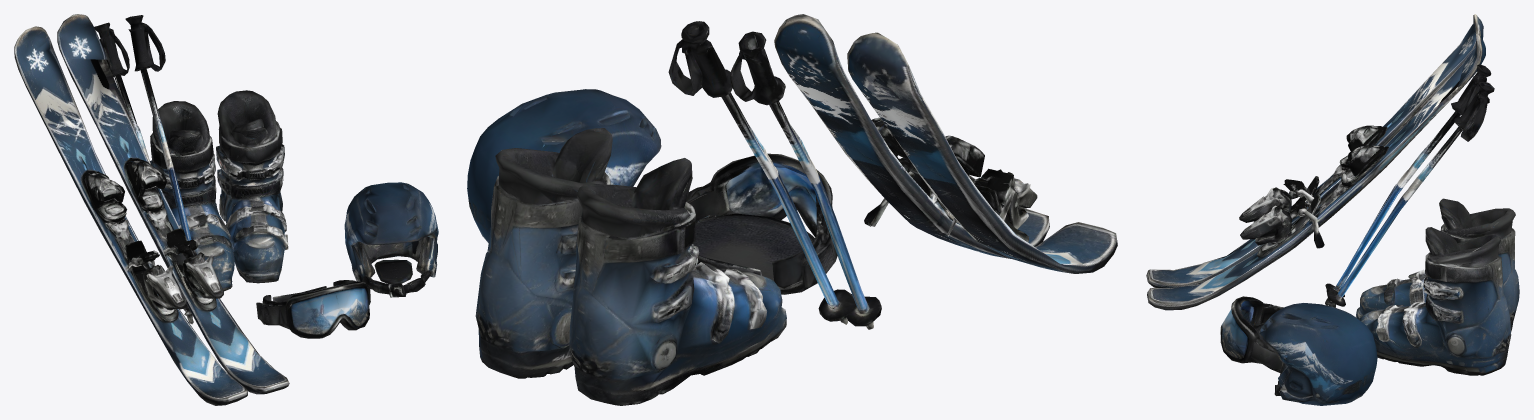
Rendered from city_erzurum_ski_gear.glb.
The picture shows the model from 3 angles, left to right: view 1: azimuth 30°, elevation 25°; view 2: azimuth 150°, elevation 25°; view 3: azimuth 270°, elevation 25°; orthographic projection. The views are drawn at different scales.
Visible parts, largest first — view 1: Mesh1.0; view 2: Mesh1.0; view 3: Mesh1.0.
Boxes of the visible parts, <box> form: Mesh1.0: <box>14,14,438,405</box>; Mesh1.0: <box>467,14,1117,405</box>; Mesh1.0: <box>1146,14,1519,405</box>.
Bounding box in the file's own units: 2.98 × 2.2 × 2.9.
Materials: 1 (1 with a texture image).
